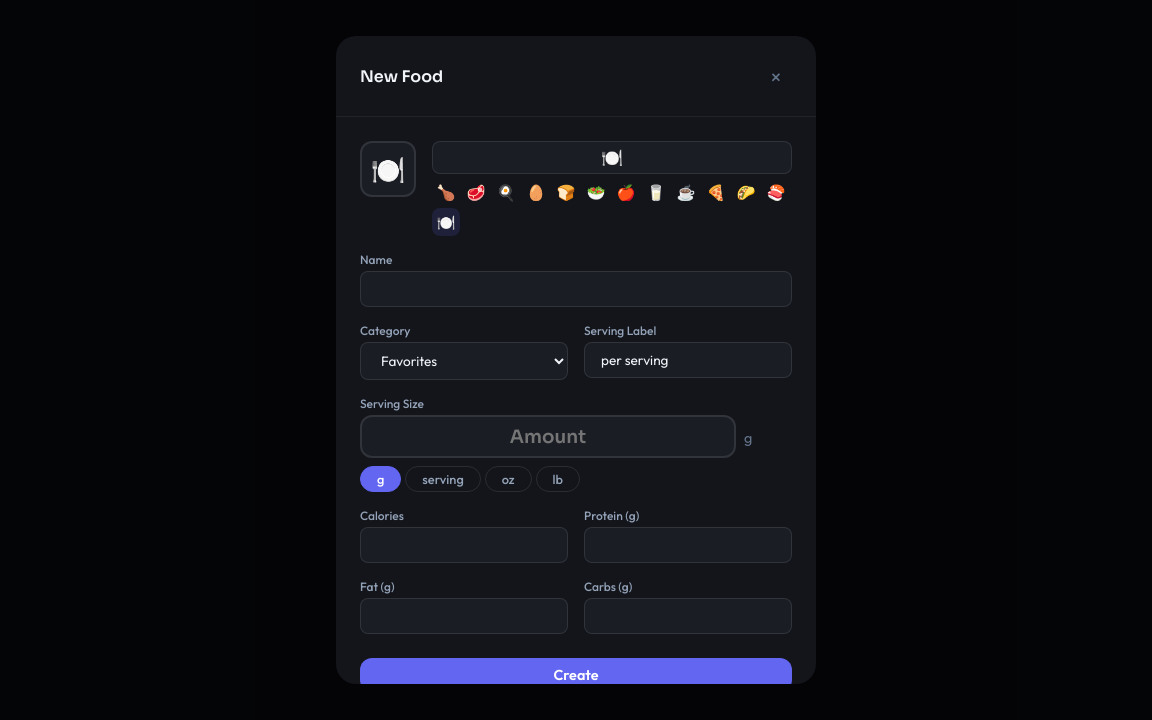
Test: FoodForm › clicking quick emoji selects it and updates preview
# Click the first quick emoji (🍗)
Step 1. Click the button "🍗" → x=446, y=192, box [432,178,460,206]
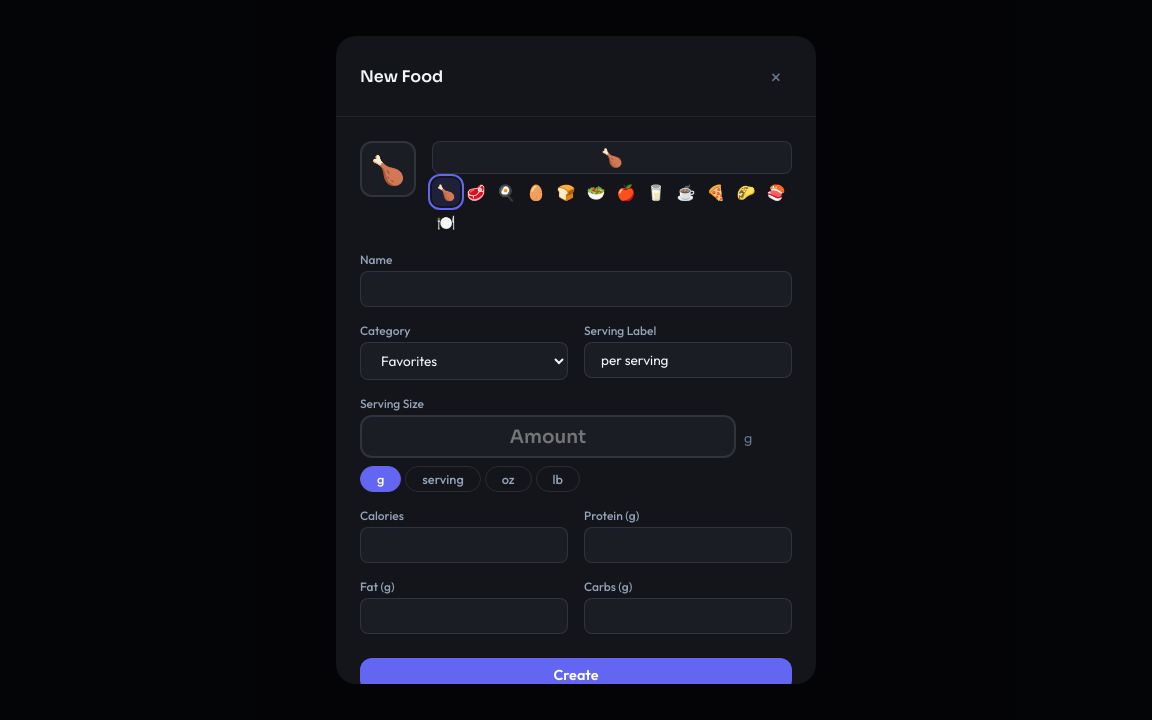
Now the 1st button "🍗" is shown, box [360,141,416,197]
